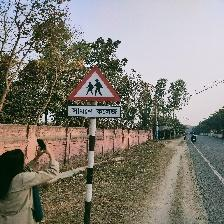College-in-front: (58, 53, 132, 123)
